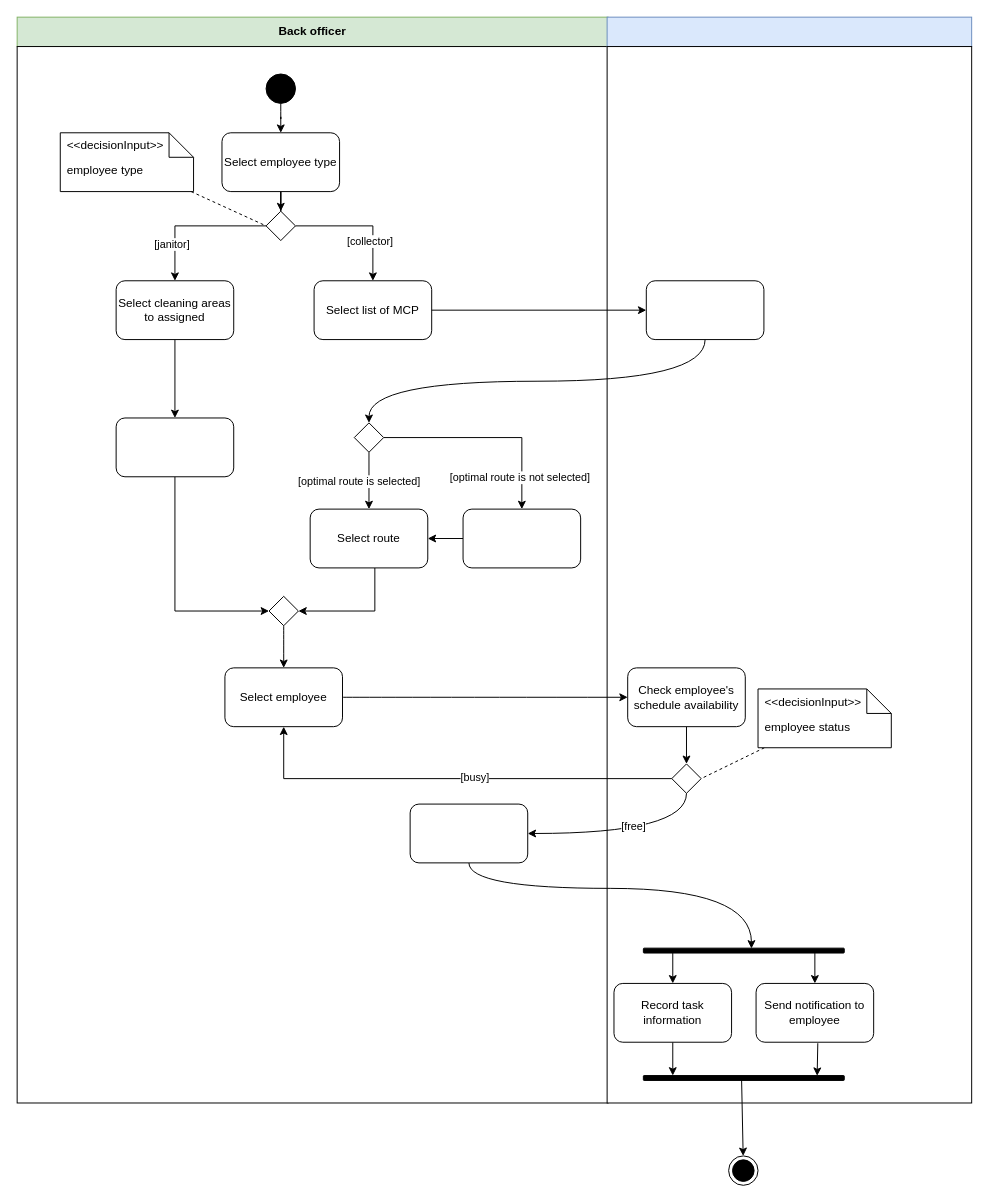
This 989x1202 diagram has some shape labels left out. Each missing label, with the centre of its shape:
Assign task: [468,833]
Modify route: [521,538]
Select nearby MCPs: [174,447]
Suggest optimal route: [704,310]
System: [789,31]
